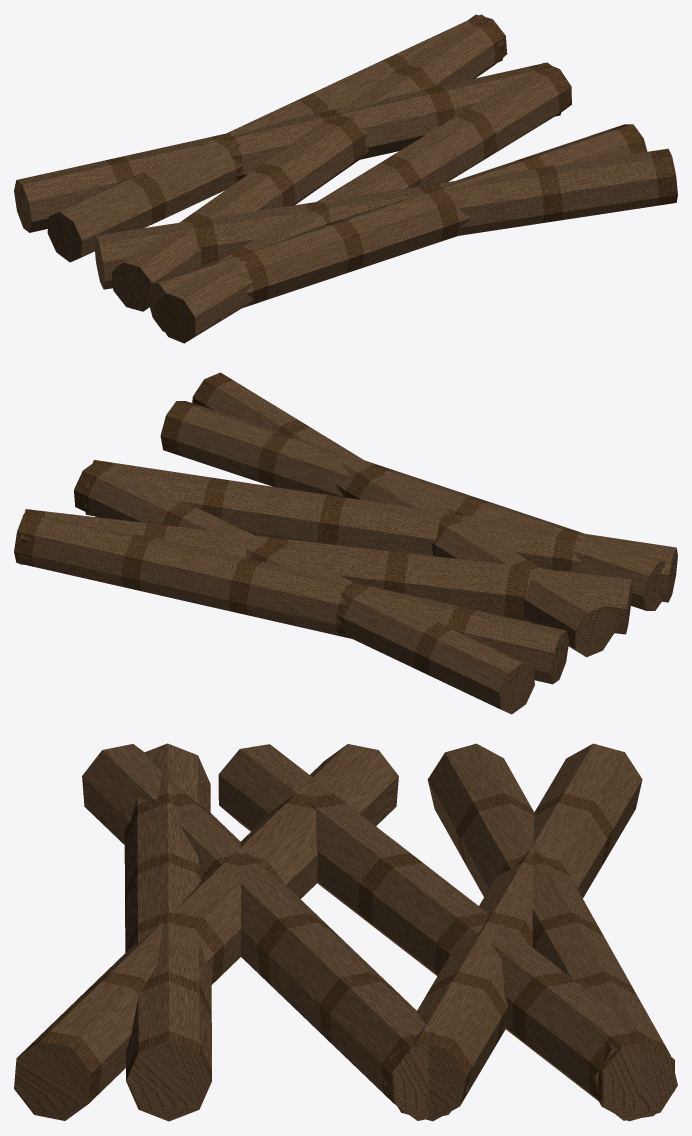
File: root_cluster.glb
3 views of the same model, one above another, from view 1: azimuth 30°, elevation 25°; view 2: azimuth 150°, elevation 25°; view 3: azimuth 270°, elevation 25° (orthographic). The views are drawn at different scales.
Parts seen in each view (by area): view 1: root (×6); view 2: root (×6); view 3: root (×6).
Part boxes in pixels (bbox=[...]): root (×6): bbox=[14, 14, 677, 343]; root (×6): bbox=[14, 372, 677, 714]; root (×6): bbox=[14, 743, 677, 1121].
Size of the model in its own units: 1.46 by 0.2595 by 1.08.
Materials: 1 (1 with a texture image).
